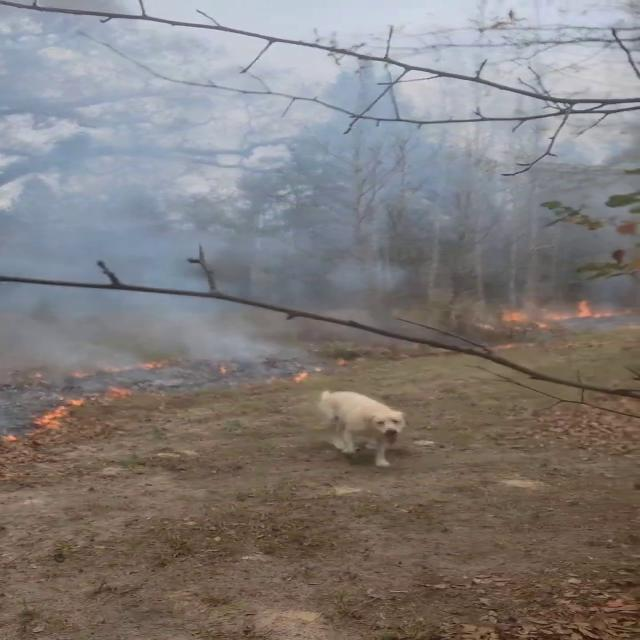Fire: (498, 294, 622, 330)
Smoke: (0, 142, 300, 420)
